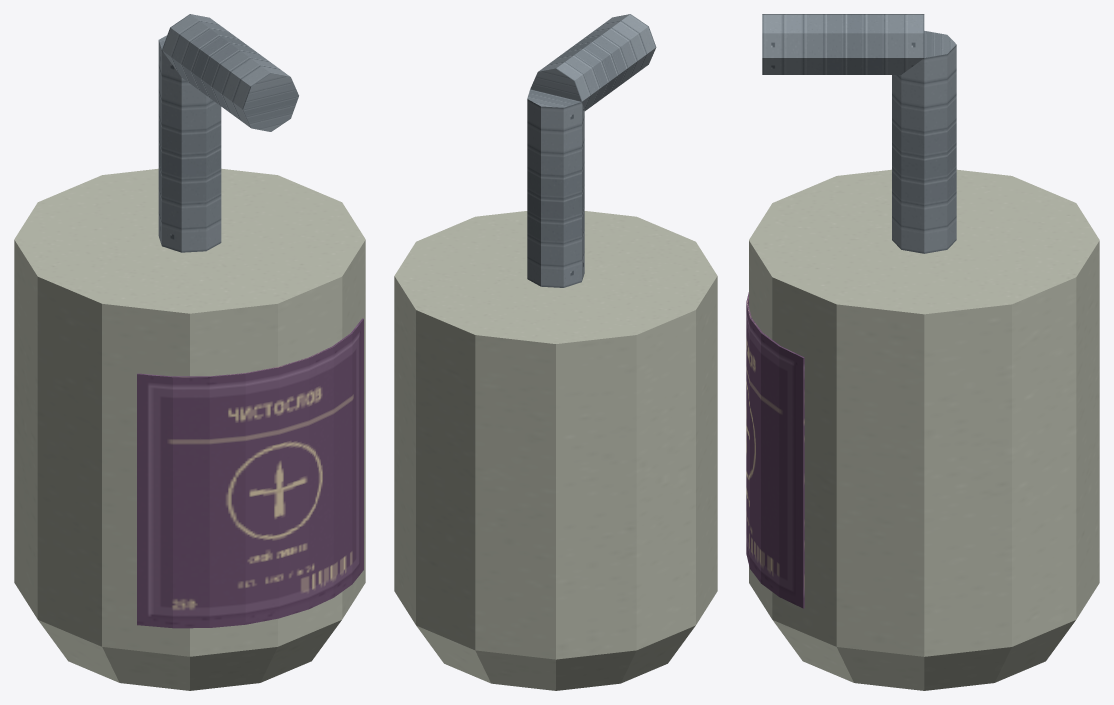
Rendered from MD_105_SoapDispenser.fbx.
3 views of the same model, side by side, from view 1: azimuth 30°, elevation 25°; view 2: azimuth 150°, elevation 25°; view 3: azimuth 270°, elevation 25° (orthographic). The views are drawn at different scales.
Parts seen in each view (by area): view 1: MD_105_SoapDispenser_container_body, MD_105_SoapDispenser_front_label, MD_105_SoapDispenser_pump_0, MD_105_SoapDispenser_pump_1; view 2: MD_105_SoapDispenser_container_body, MD_105_SoapDispenser_pump_0, MD_105_SoapDispenser_pump_1; view 3: MD_105_SoapDispenser_container_body, MD_105_SoapDispenser_front_label, MD_105_SoapDispenser_pump_0, MD_105_SoapDispenser_pump_1.
Part boxes in pixels (<box>): MD_105_SoapDispenser_container_body: <box>14,168,365,690</box>; MD_105_SoapDispenser_front_label: <box>137,318,363,628</box>; MD_105_SoapDispenser_pump_0: <box>158,35,221,252</box>; MD_105_SoapDispenser_pump_1: <box>162,14,298,131</box>; MD_105_SoapDispenser_container_body: <box>394,211,717,690</box>; MD_105_SoapDispenser_pump_0: <box>527,89,584,287</box>; MD_105_SoapDispenser_pump_1: <box>530,14,656,110</box>; MD_105_SoapDispenser_container_body: <box>749,169,1099,690</box>; MD_105_SoapDispenser_front_label: <box>746,292,804,608</box>; MD_105_SoapDispenser_pump_0: <box>892,31,956,253</box>; MD_105_SoapDispenser_pump_1: <box>762,14,924,74</box>.
Size of the model in its own units: 0.13 by 0.252 by 0.131.
Materials: 3 (3 with a texture image).
